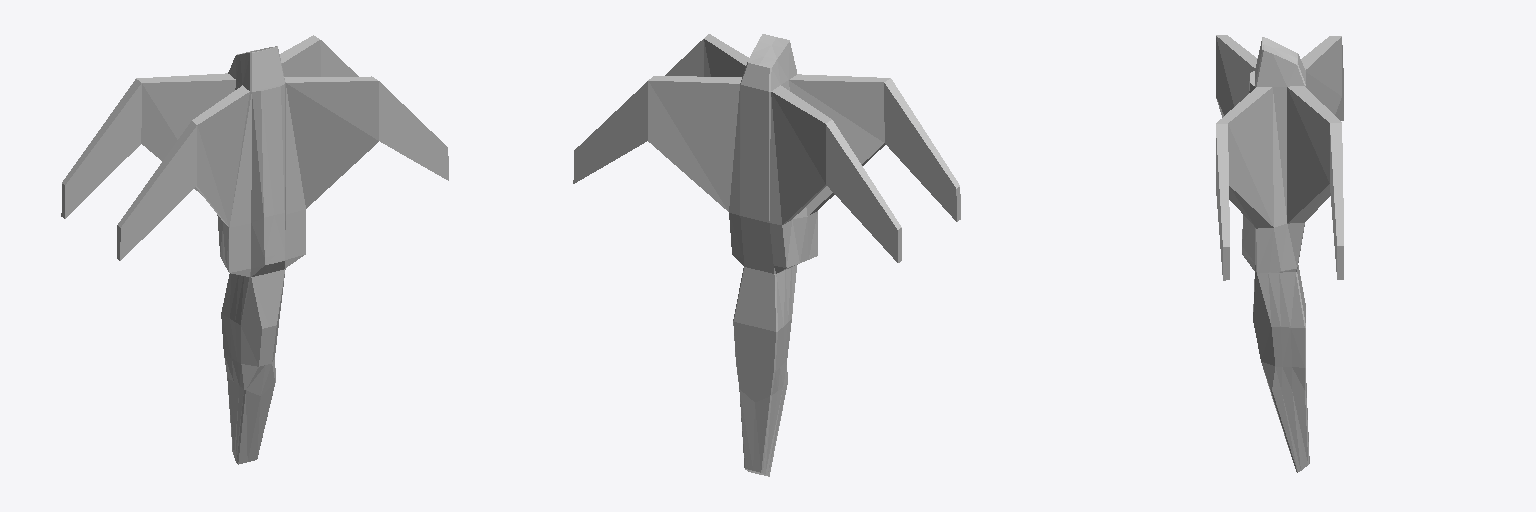
The model's file is ship.obj.
3 views of the same model, side by side, from view 1: azimuth 30°, elevation 25°; view 2: azimuth 150°, elevation 25°; view 3: azimuth 270°, elevation 25° (orthographic).
Visible parts, largest first — view 1: Rumpf_LowPoly Mesh; view 2: Rumpf_LowPoly Mesh; view 3: Rumpf_LowPoly Mesh.
Boxes of the visible parts, x1,y1,x2,y2 form: Rumpf_LowPoly Mesh: [61, 35, 448, 464]; Rumpf_LowPoly Mesh: [573, 34, 960, 476]; Rumpf_LowPoly Mesh: [1216, 35, 1343, 472].
Bounding box in the file's own units: 510 × 630 × 173.